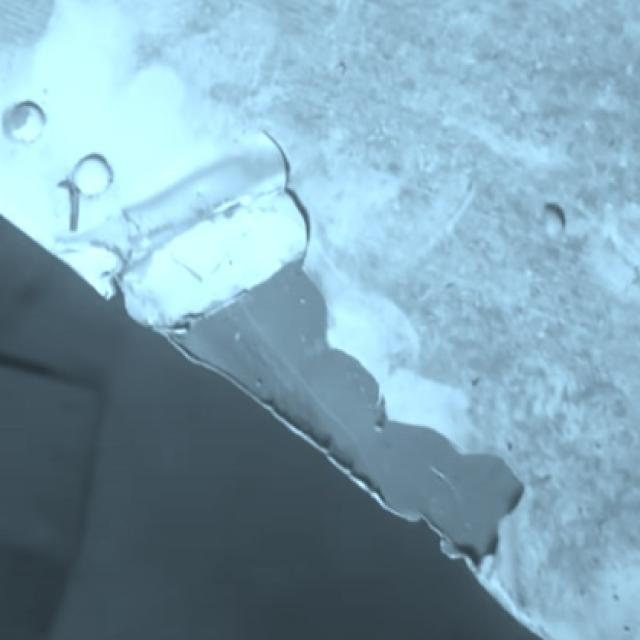crack: (276, 152, 313, 229)
